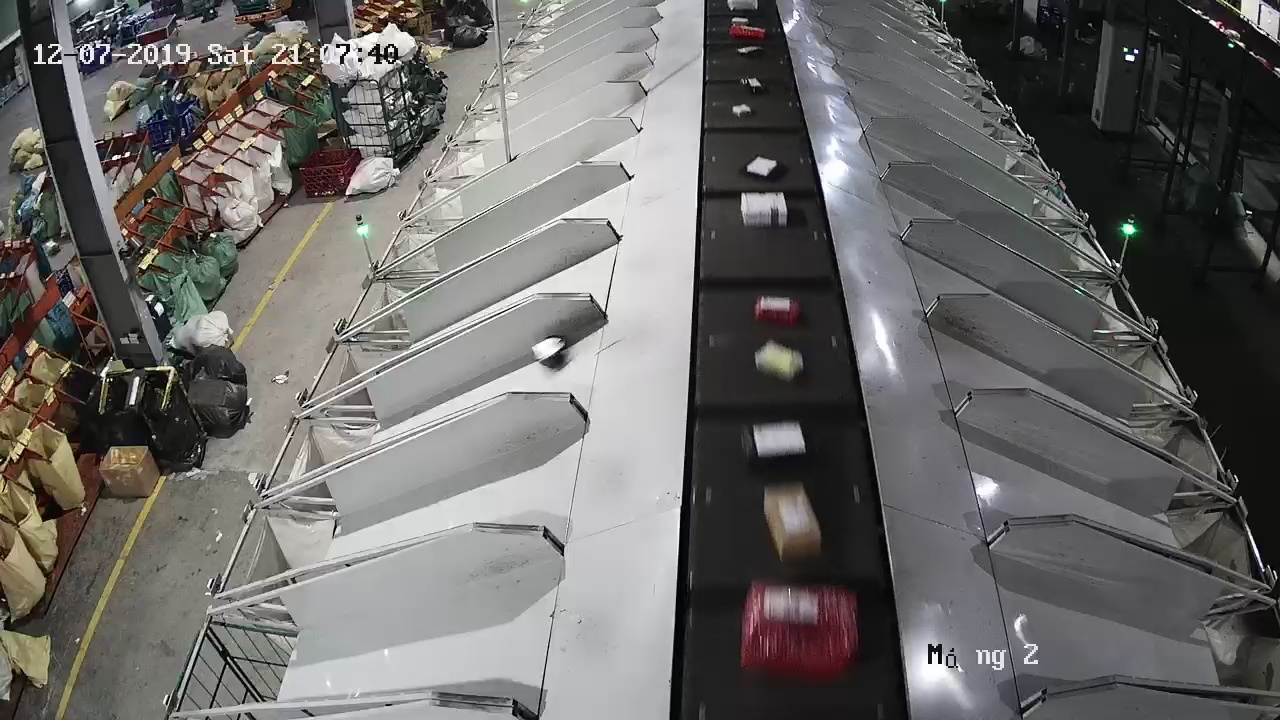parcel: (531, 334, 567, 369)
